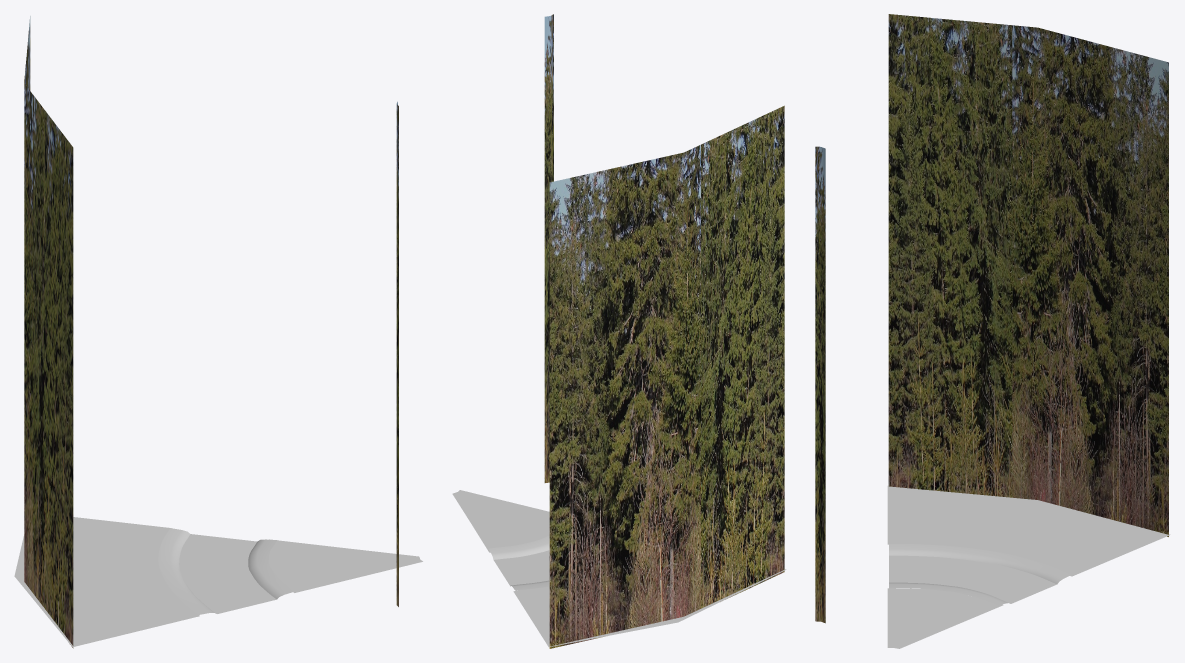
Rendered from mutka_seinät.FBX.
3 views of the same model, side by side, from view 1: azimuth 30°, elevation 25°; view 2: azimuth 150°, elevation 25°; view 3: azimuth 270°, elevation 25° (orthographic). The views are drawn at different scales.
Visible parts, largest first — view 1: Plane008, Plane018, mutka046, Plane009; view 2: Plane008, Plane018, Plane009, mutka046; view 3: Plane008, Plane018, mutka046, Plane009.
Boxes of the visible parts, x1=… form: Plane008: x1=24, y1=16, x2=73, y2=648; Plane018: x1=14, y1=517, x2=422, y2=647; mutka046: x1=158, y1=528, x2=294, y2=614; Plane009: x1=396, y1=101, x2=398, y2=606; Plane008: x1=549, y1=105, x2=784, y2=648; Plane018: x1=452, y1=490, x2=786, y2=647; Plane009: x1=544, y1=14, x2=553, y2=482; mutka046: x1=489, y1=535, x2=549, y2=590; Plane008: x1=888, y1=14, x2=1168, y2=536; Plane018: x1=887, y1=486, x2=1170, y2=648; mutka046: x1=889, y1=544, x2=1070, y2=606; Plane009: x1=815, y1=146, x2=825, y2=623.
Size of the model in its own units: 529 by 718 by 487.
